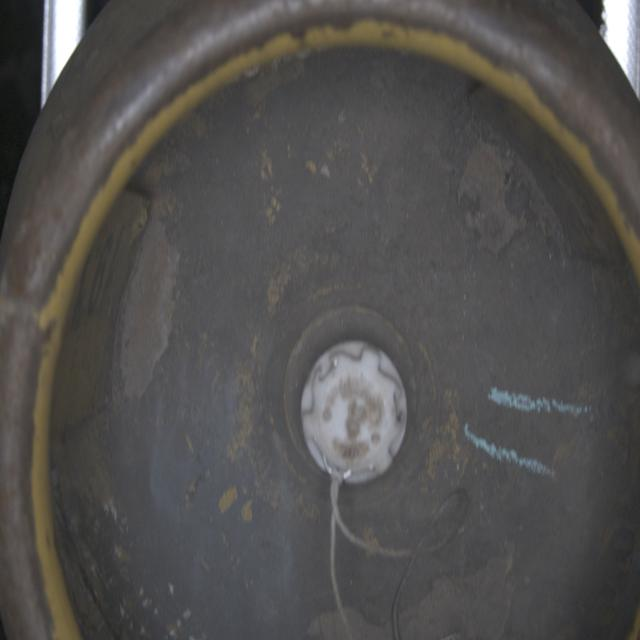Cap: (301, 339, 406, 484)
